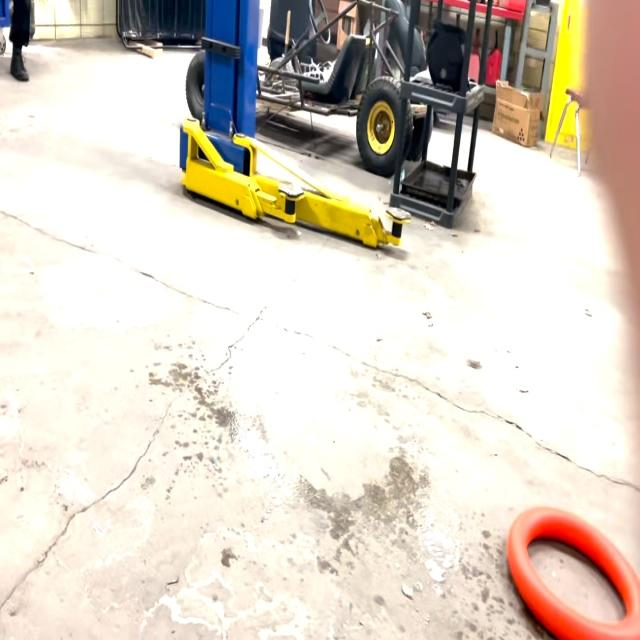note: (505, 499, 640, 640)
